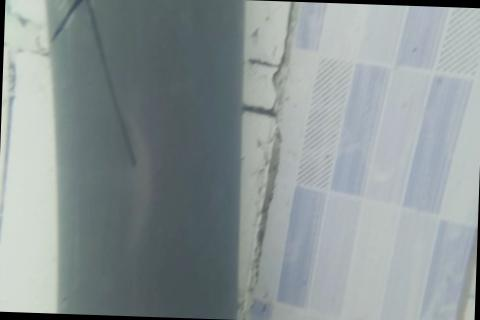keretakan: (46, 0, 144, 170)
